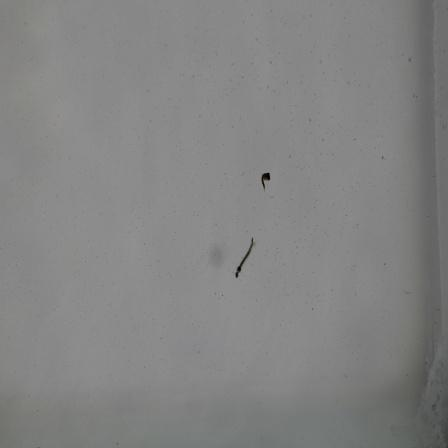Jentik-Nyamuk: (231, 234, 257, 282), (257, 168, 274, 192)
